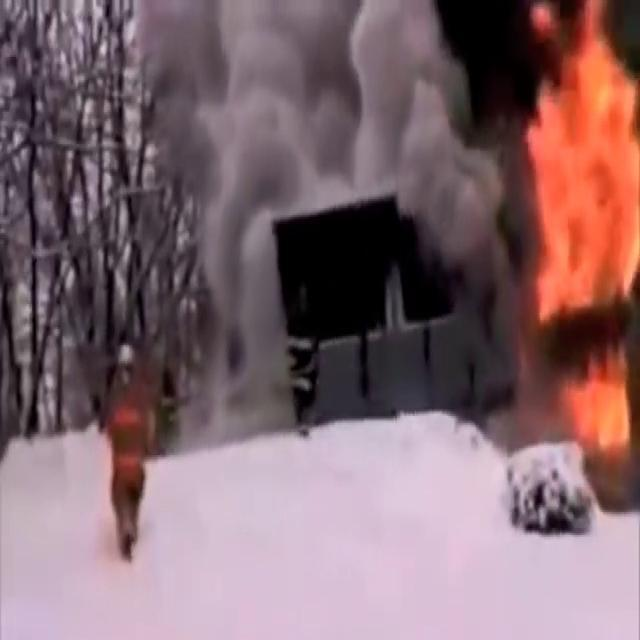Fire: (521, 13, 640, 367), (560, 346, 638, 472)
Smoke: (177, 0, 535, 336)
